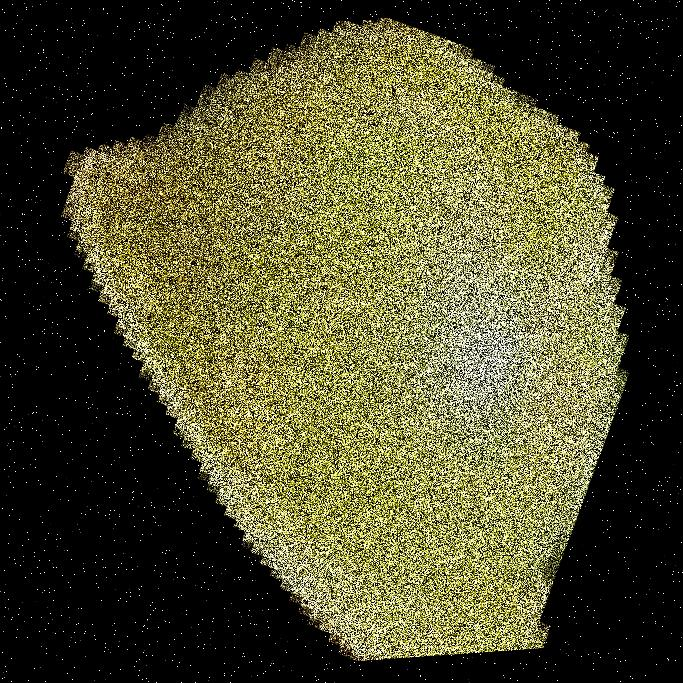Capacete: (252, 0, 588, 682)
